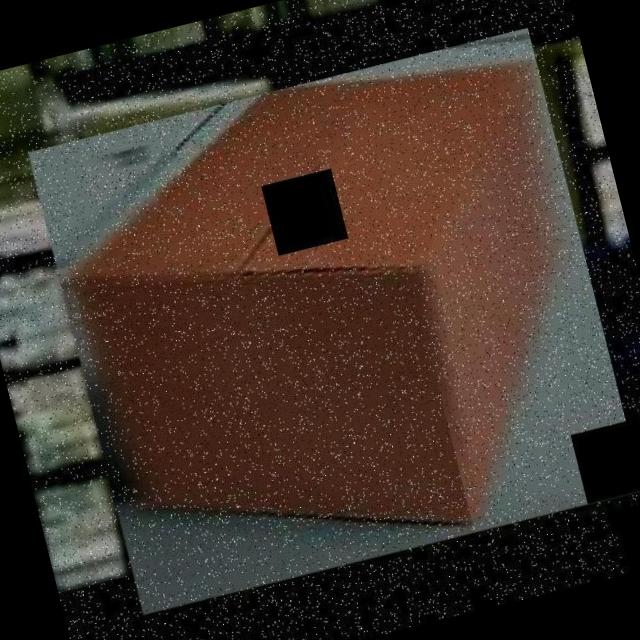box: (17, 18, 640, 625)
